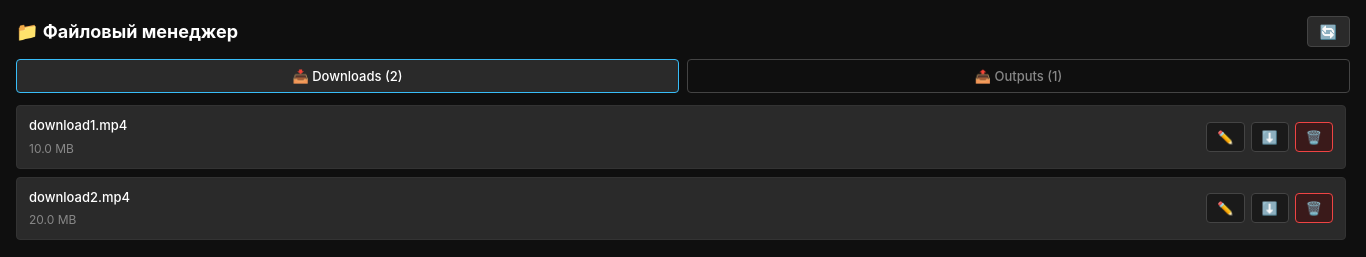
Test case: FileManager Component › switches between tabs
The width and height of the screenshot is (1366, 257).
Check: the text "download1.mp4" is shown, box x1=29 y1=117 x2=127 y2=133
Click the button "📤 Outputs (1)".
click(1018, 76)  # box x1=687 y1=59 x2=1350 y2=93
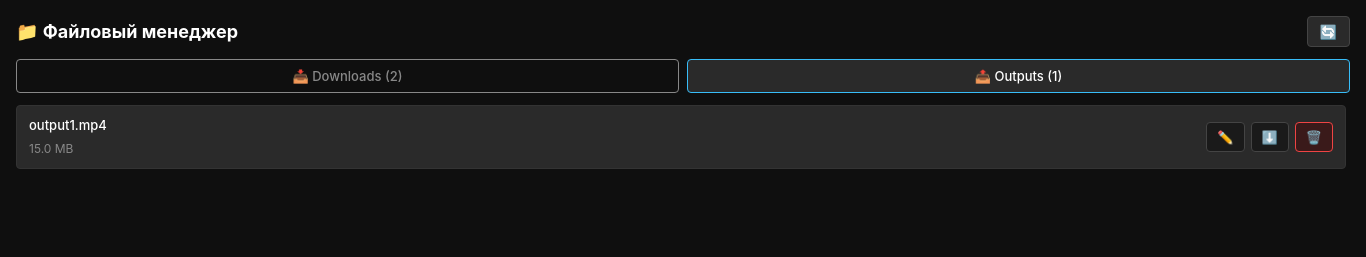
Check: the text "output1.mp4" is shown, box x1=29 y1=117 x2=107 y2=133
